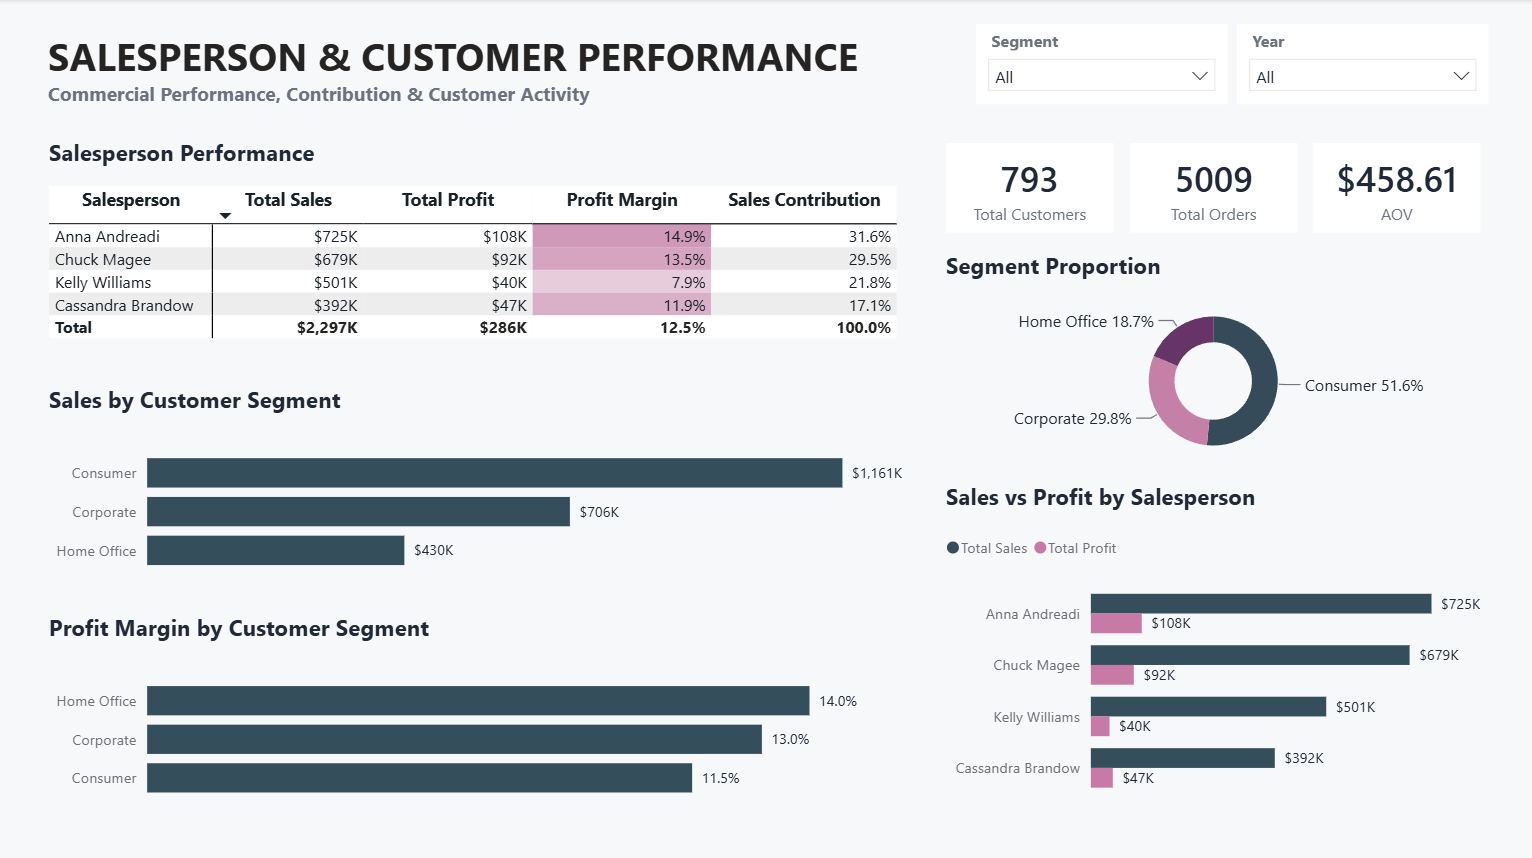

What the dashboard file says about the page in this screenshot:
{"tool":"powerbi","page":{"name":"Salesperson & Customer Performance","canvas":[1280,720],"ordinal":2},"visuals":[{"type":"textbox","box":[35.1,20.3,723,85.1],"z":0},{"type":"slicer","fields":{"Values":["DimDate.Year"]},"box":[1033.3,20.8,210.3,66.7],"z":1000},{"type":"slicer","fields":{"Values":["DimCustomer.Segment"]},"box":[815.3,20.8,209.7,66.7],"z":2000},{"type":"pivotTable","title":"Salesperson Performance","fields":{"Rows":["DimSalesperson.Retail Sales People"],"Values":["Measure.Total Sales","Measure.Total Profit","Measure.Profit Margin","Measure.Sales Contribution %"]},"box":[35.6,115.3,722.7,186.5],"z":3000},{"type":"clusteredBarChart","title":"Sales vs Profit by Salesperson","fields":{"Category":["DimSalesperson.Retail Sales People"],"Y":["Measure.Total Sales","Measure.Total Profit"]},"box":[785.3,402.5,456.4,279.8],"z":4000},{"type":"clusteredBarChart","title":"Sales by Customer Segment","fields":{"Category":["DimCustomer.Segment"],"Y":["Measure.Total Sales"]},"box":[35.6,321.5,722.7,170.6],"z":5000},{"type":"cardVisual","fields":{"Data":["Measure.Total Customers"]},"box":[785.3,115.3,150,85],"z":6000},{"type":"clusteredBarChart","title":"Profit Margin by Customer Segment","fields":{"Category":["DimCustomer.Segment"],"Y":["Measure.Profit Margin"]},"box":[35.6,511.7,722.7,170],"z":7000},{"type":"cardVisual","fields":{"Data":["Measure.Total Orders"]},"box":[938.7,115.3,150,85],"z":8000},{"type":"cardVisual","fields":{"Data":["Measure.Average Order Value"]},"box":[1092,115.3,150,85],"z":9000},{"type":"donutChart","title":"Segment Proportion","fields":{"Category":["DimCustomer.Segment"],"Y":["CountNonNull(DimCustomer.Segment)"]},"box":[785.3,209.8,456.4,182.8],"z":10000}]}

Visuals, with their boxes in screenshot pixels (x1, y1, x2, y2), scaled from the page's 1280x720 canvas onto the 1532x858 screenshot:
textbox: bbox(42, 24, 907, 126)
slicer - DimDate.Year: bbox(1237, 25, 1488, 104)
slicer - DimCustomer.Segment: bbox(976, 25, 1227, 104)
"Salesperson Performance" pivotTable: bbox(43, 137, 908, 360)
"Sales vs Profit by Salesperson" clusteredBarChart: bbox(940, 480, 1486, 813)
"Sales by Customer Segment" clusteredBarChart: bbox(43, 383, 908, 586)
cardVisual - Measure.Total Customers: bbox(940, 137, 1119, 239)
"Profit Margin by Customer Segment" clusteredBarChart: bbox(43, 610, 908, 812)
cardVisual - Measure.Total Orders: bbox(1124, 137, 1303, 239)
cardVisual - Measure.Average Order Value: bbox(1307, 137, 1487, 239)
"Segment Proportion" donutChart: bbox(940, 250, 1486, 468)
